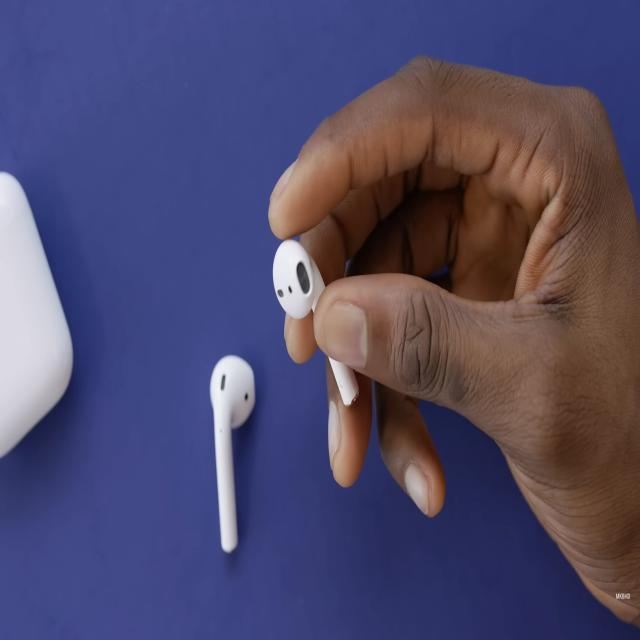airpods: (272, 236, 360, 409), (209, 352, 257, 554)
